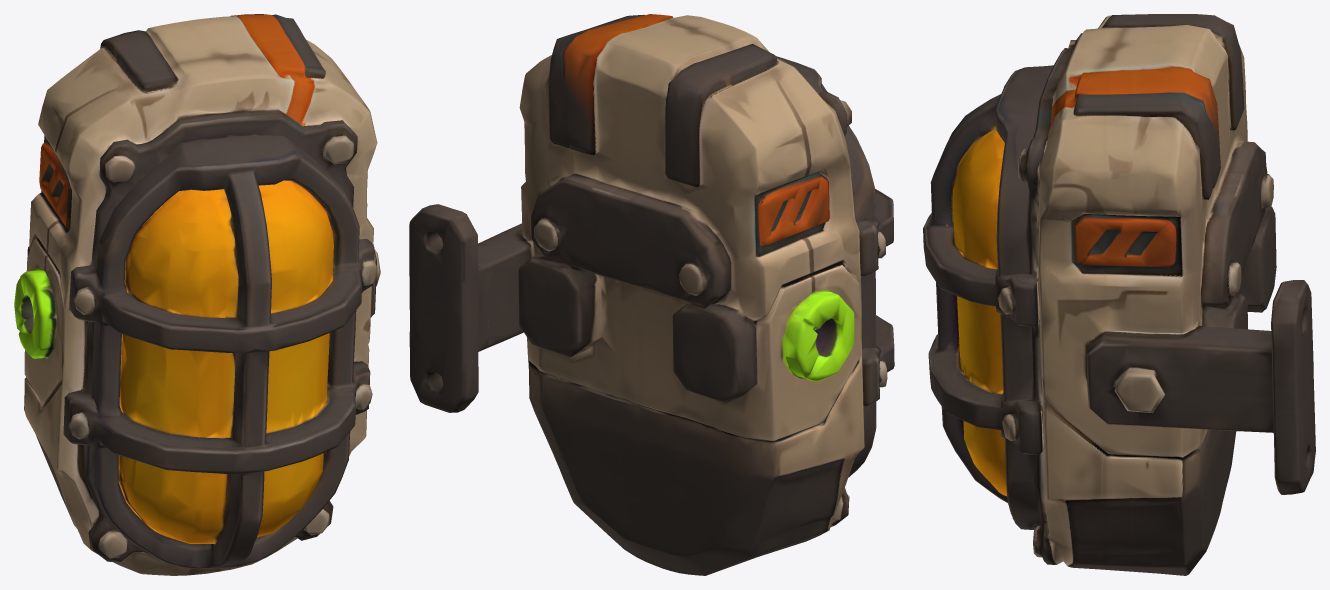
Rendered from lamp.glb.
The picture shows the model from 3 angles, left to right: view 1: azimuth 30°, elevation 25°; view 2: azimuth 150°, elevation 25°; view 3: azimuth 270°, elevation 25°; orthographic projection. The views are drawn at different scales.
Visible parts, largest first — view 1: tripo_node_ef37654d-aa56-4dd3-9fee-a9dc005138ff; view 2: tripo_node_ef37654d-aa56-4dd3-9fee-a9dc005138ff; view 3: tripo_node_ef37654d-aa56-4dd3-9fee-a9dc005138ff.
Boxes of the visible parts, x1,y1,x2,y2 form: tripo_node_ef37654d-aa56-4dd3-9fee-a9dc005138ff: (14,14,380,575); tripo_node_ef37654d-aa56-4dd3-9fee-a9dc005138ff: (409,14,894,575); tripo_node_ef37654d-aa56-4dd3-9fee-a9dc005138ff: (923,14,1315,575).
Size of the model in its own units: 0.7556 by 1 by 0.6782.
Materials: 1 (1 with a texture image).
